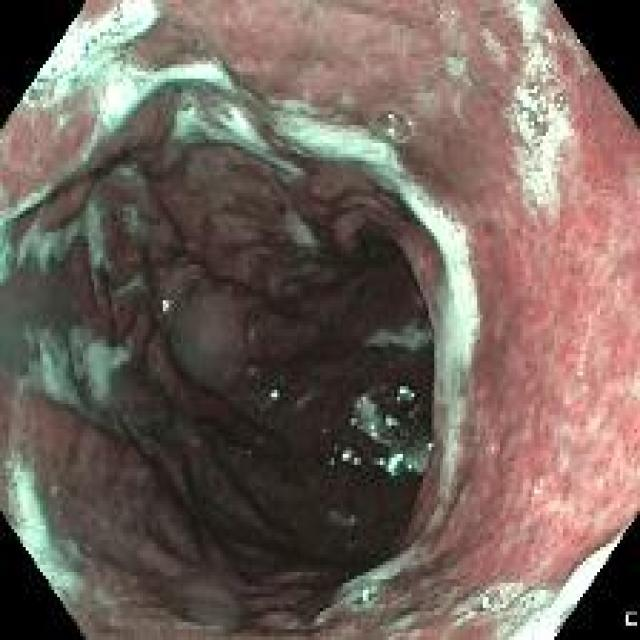bubbles: (27, 0, 270, 172), (397, 172, 486, 499), (2, 189, 150, 304), (4, 448, 86, 602), (270, 99, 397, 186), (21, 328, 126, 422), (343, 386, 432, 480), (454, 568, 544, 631), (362, 308, 436, 366), (501, 101, 574, 156), (279, 199, 325, 255), (517, 153, 561, 209), (510, 1, 547, 46), (28, 74, 48, 101), (552, 91, 566, 112), (176, 99, 194, 115), (221, 106, 236, 124), (578, 61, 591, 78), (382, 107, 395, 124), (537, 98, 547, 119), (513, 78, 526, 94), (118, 209, 130, 226), (384, 128, 397, 143), (404, 115, 416, 131), (528, 80, 538, 99), (546, 60, 557, 75), (491, 42, 501, 58), (539, 47, 549, 59), (524, 48, 534, 60)
contrast: (80, 179, 448, 587)
saturation: (518, 539, 621, 638)
specularity: (384, 449, 403, 477), (519, 105, 538, 132), (394, 382, 416, 404), (477, 590, 493, 610), (358, 585, 372, 605), (268, 388, 281, 403), (368, 420, 378, 438), (423, 439, 434, 455), (406, 457, 417, 472), (376, 454, 386, 470), (325, 457, 337, 470), (339, 448, 350, 462), (31, 80, 43, 91), (353, 455, 360, 470), (347, 417, 357, 426), (387, 112, 395, 123), (524, 598, 533, 607), (387, 127, 394, 137), (495, 46, 499, 55), (408, 119, 413, 125), (526, 51, 532, 56)
